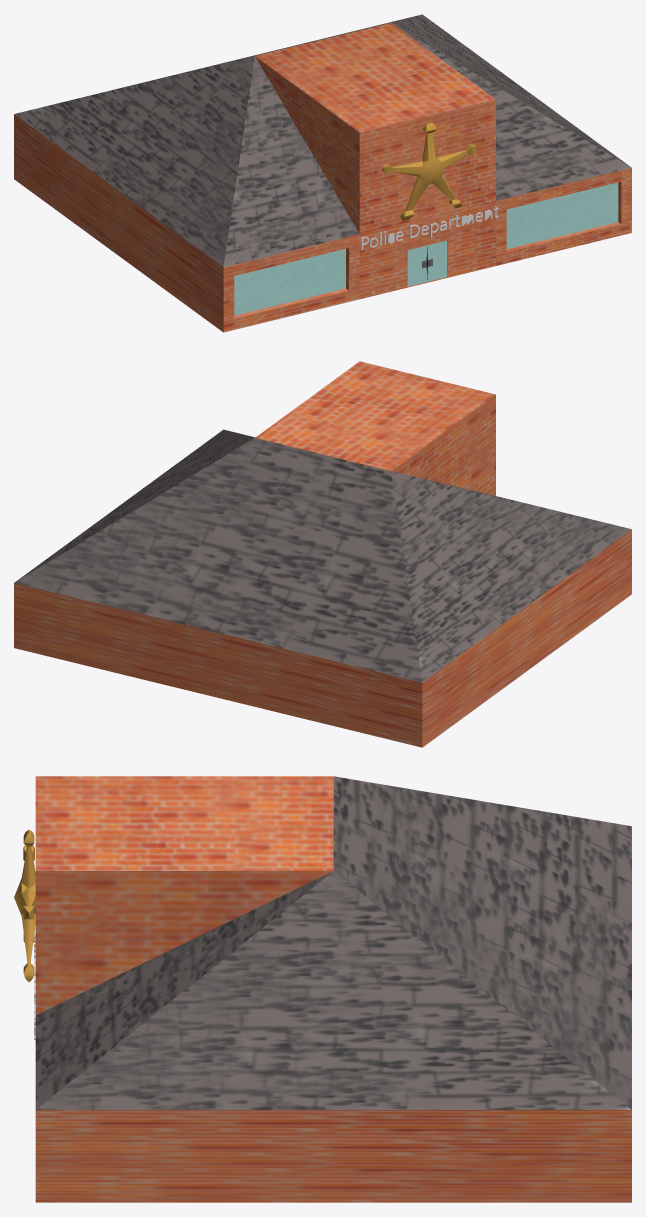
File: police_station.fbx
The picture shows the model from 3 angles, top to bottom: view 1: azimuth 30°, elevation 25°; view 2: azimuth 150°, elevation 25°; view 3: azimuth 270°, elevation 25°; orthographic projection. The views are drawn at different scales.
Visible parts, largest first — view 1: Cube, Cylinder; view 2: Cube; view 3: Cube, Cylinder.
Boxes of the visible parts, bbox=[...] form: Cube: bbox=[14, 14, 631, 332]; Cylinder: bbox=[382, 123, 476, 220]; Cube: bbox=[14, 361, 631, 747]; Cube: bbox=[35, 776, 631, 1202]; Cylinder: bbox=[14, 830, 35, 981].
Bounding box in the file's own units: 1495 × 583 × 1377.
2 materials, 1 textured.
